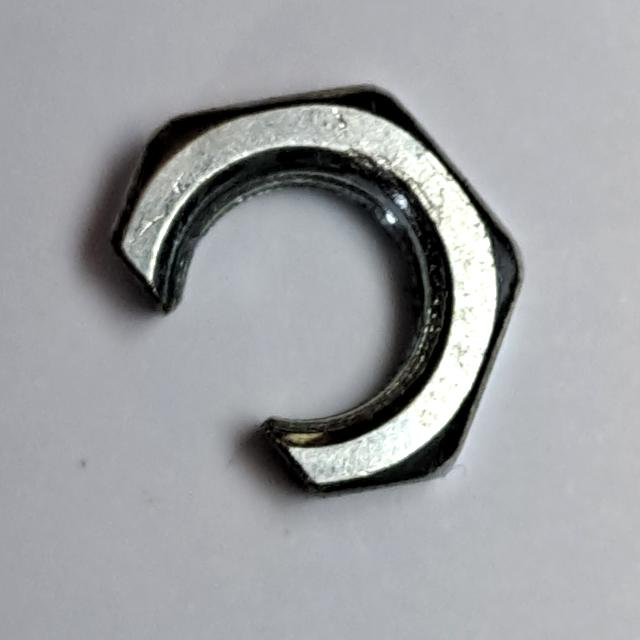Fracture: (94, 76, 535, 511)
